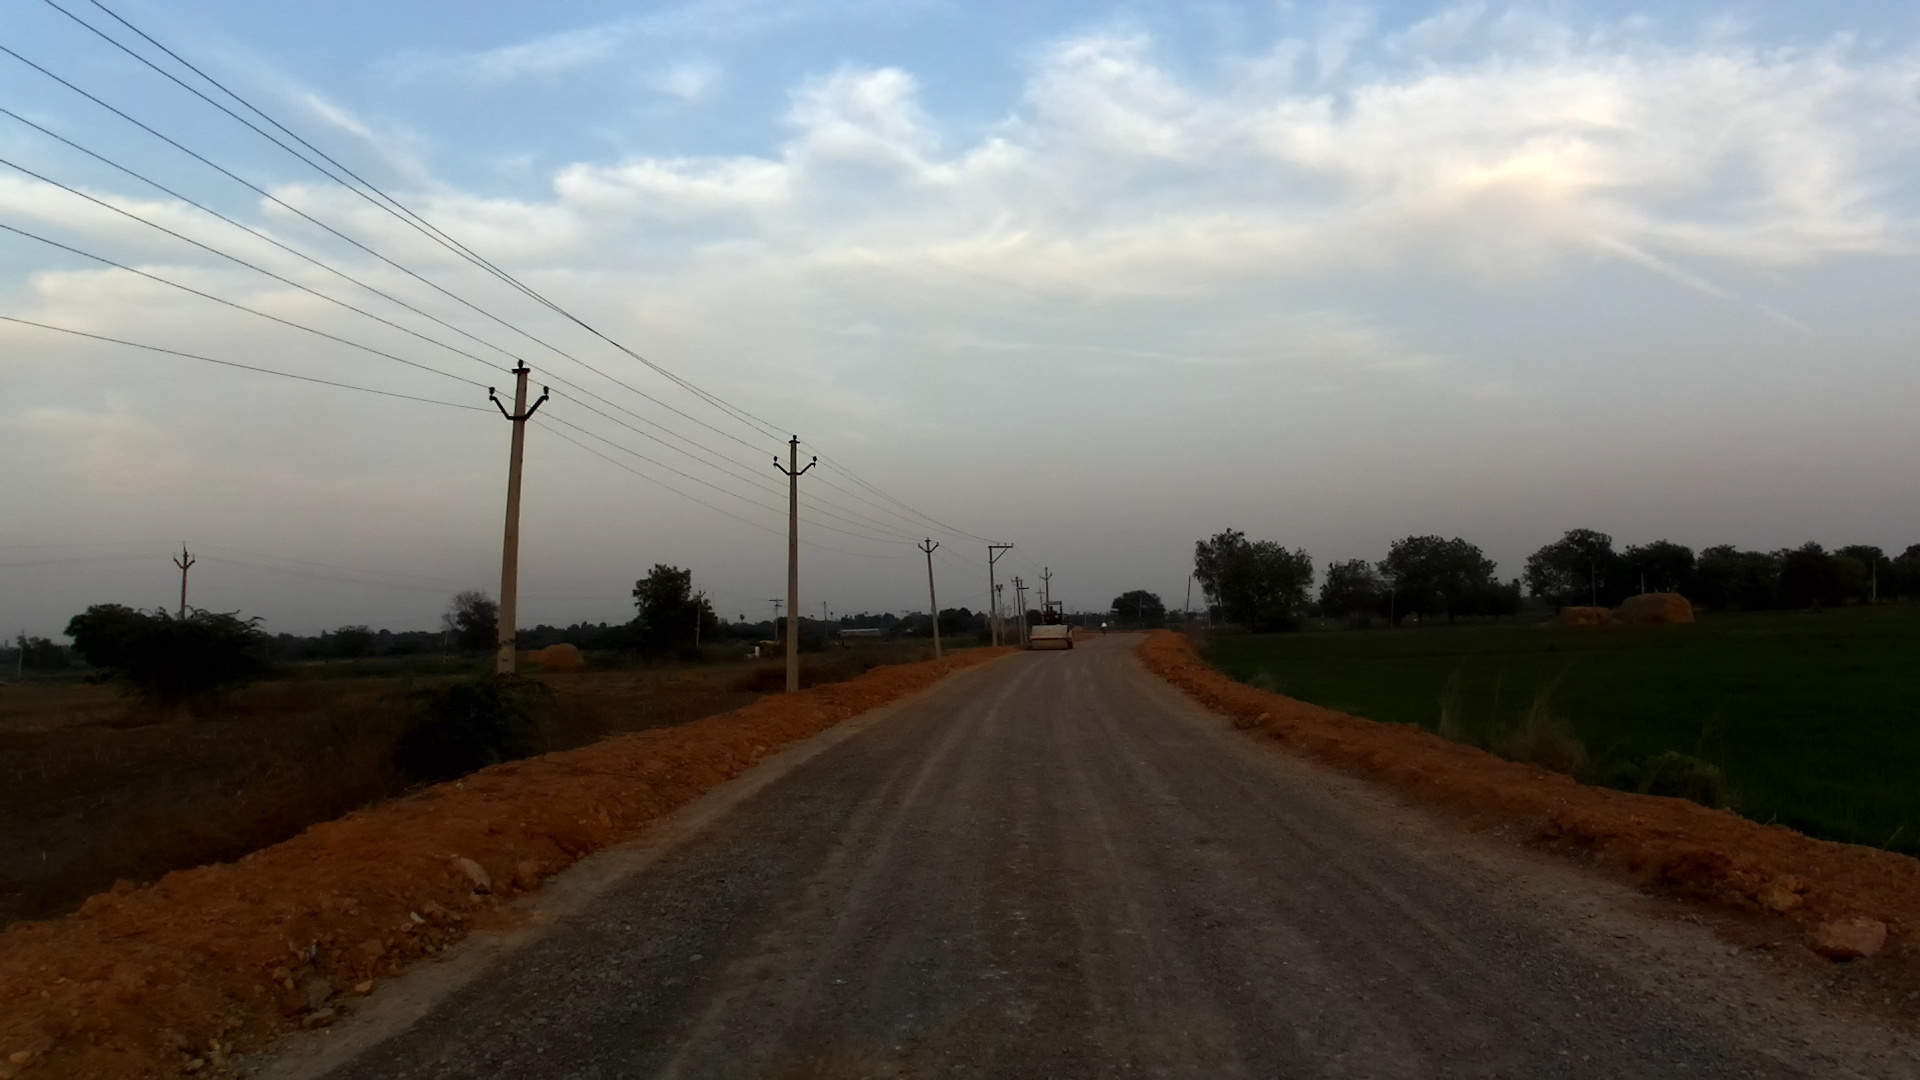vehicle fallback: (1026, 599, 1073, 651), (1098, 621, 1112, 638)
